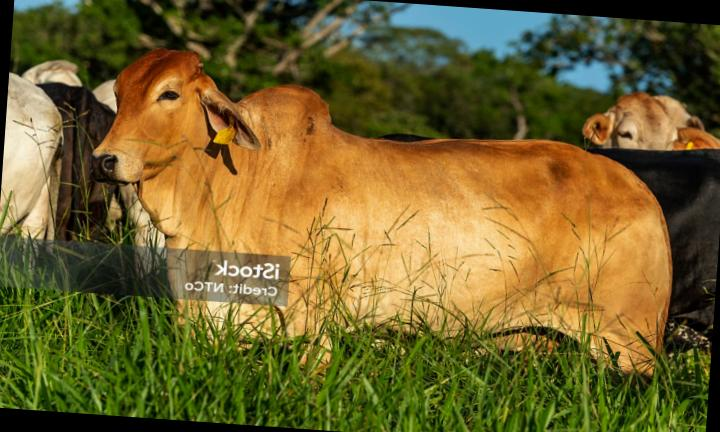Brahman: (92, 48, 672, 371)
